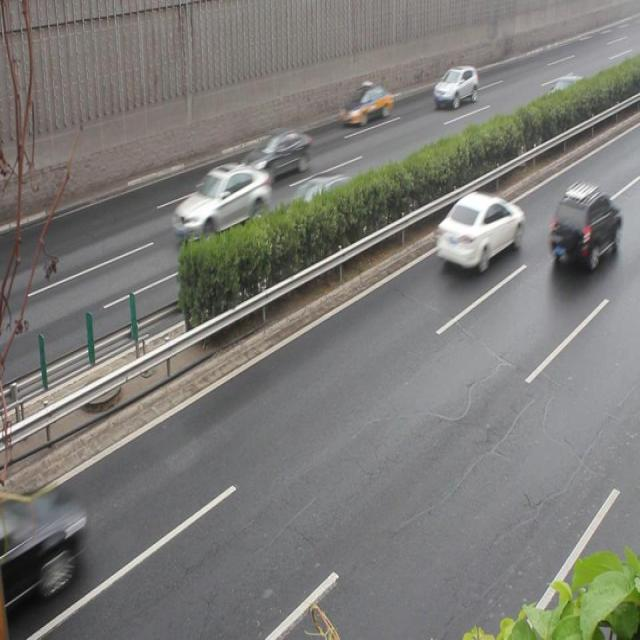car: (172, 163, 268, 246), (435, 190, 522, 272), (548, 190, 619, 271), (283, 176, 355, 238), (239, 129, 310, 182), (339, 86, 393, 129), (432, 63, 477, 106)
